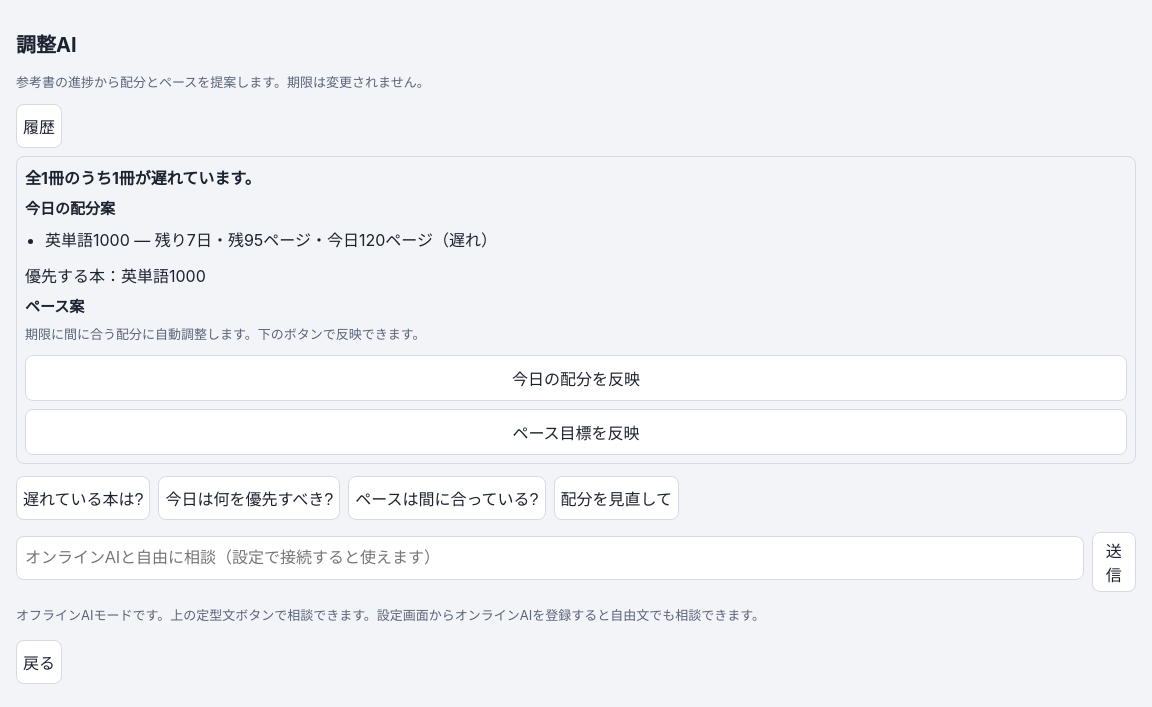
Test case: ChatScreen › answers the behind chip
Check: the text "全1冊のうち1冊が遅れています。" is shown, box [25,168,261,188]
Click the button with test id "chip-behind".
click(83, 498)  # box [16,476,150,520]
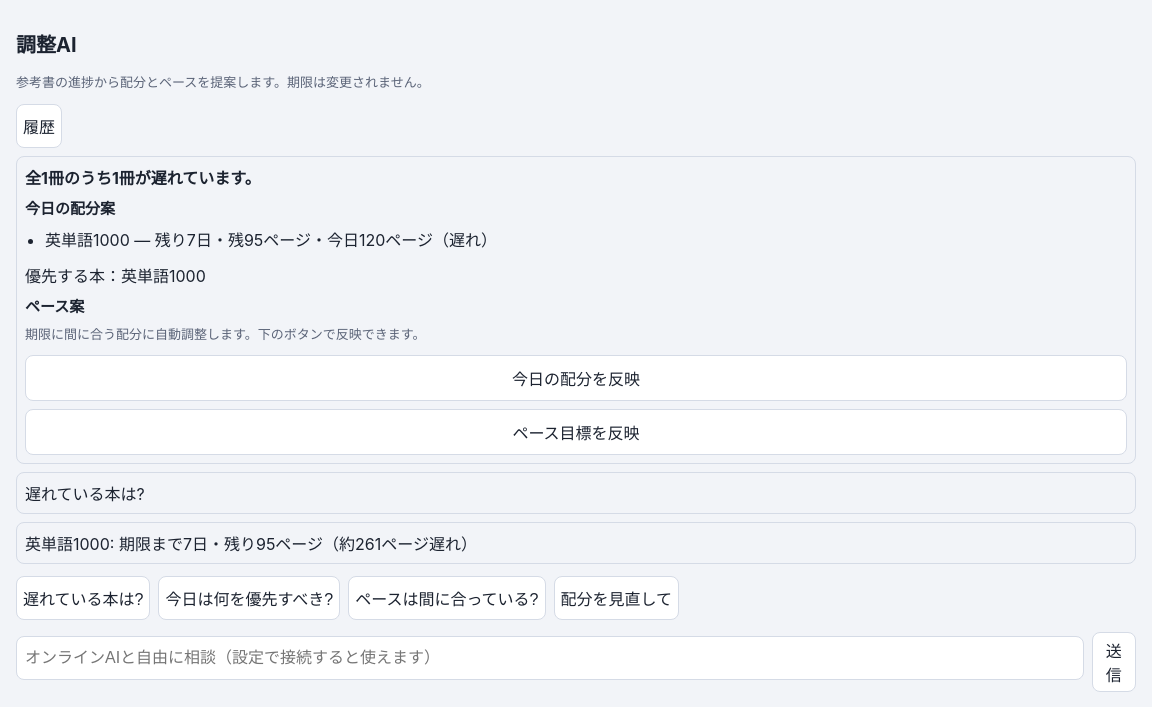
Check: the text "英単語1000: 期限まで7日・残り95ページ（約261ページ遅れ）" is shown, box [16,522,1136,564]
